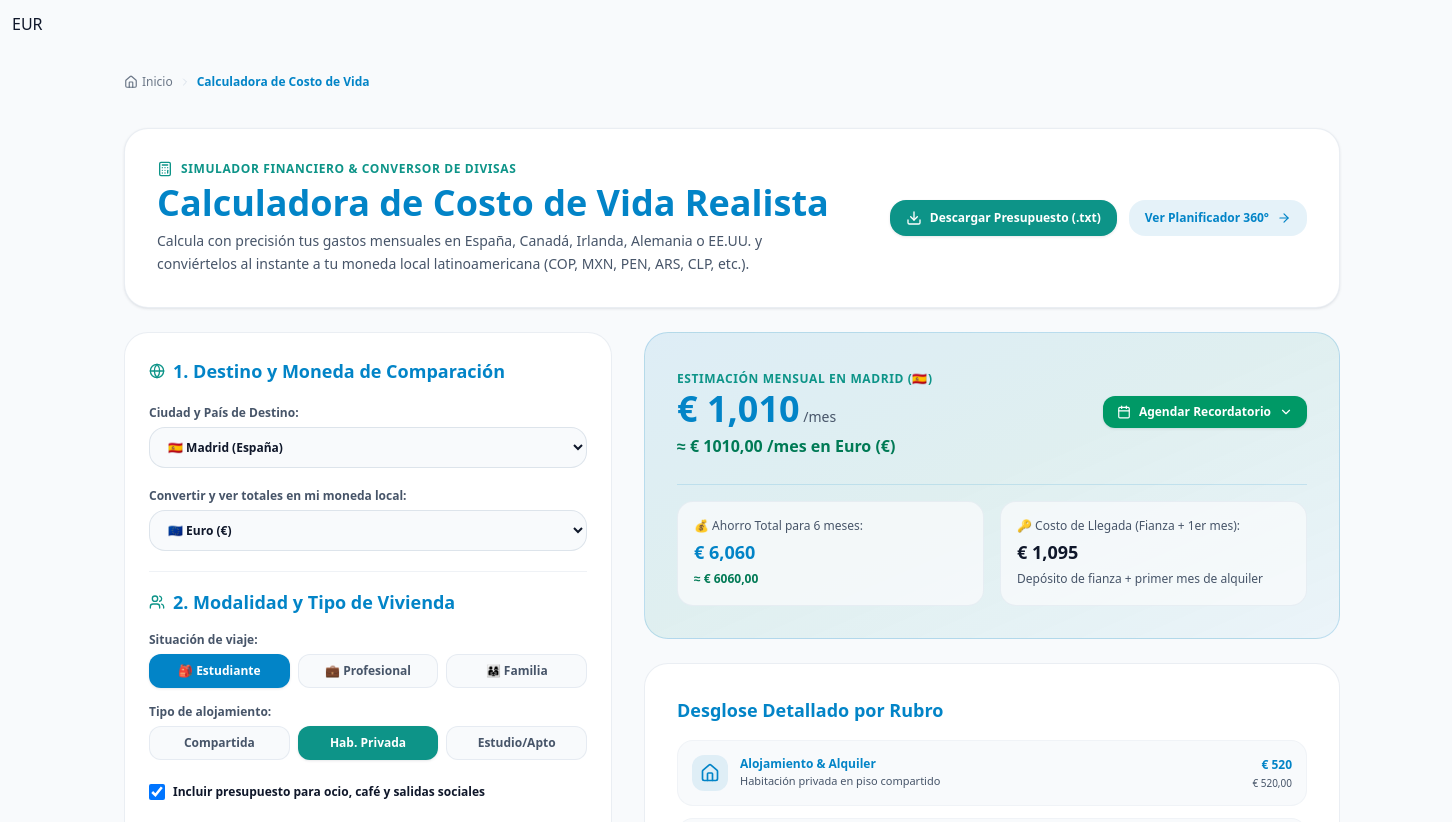
Test: CalculadoraCostoVida currency › writes back, so the rest of the application follows the calculator
Select "🇵🇪 Sol Peruano (PEN)" in the 2nd dropdown at (368, 531), box x1=149 y1=510 x2=587 y2=551
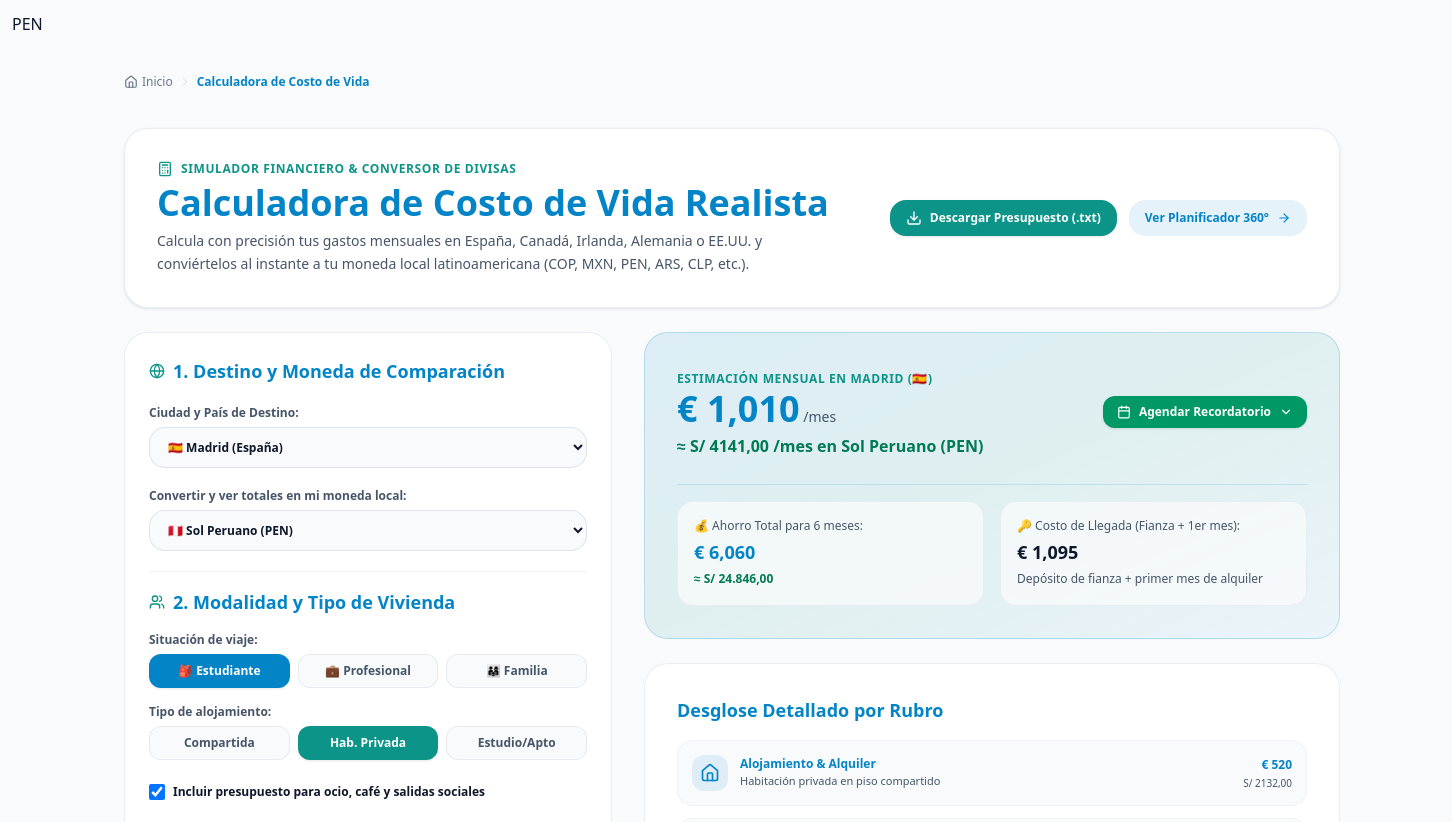
Expected: the text with test id "shared-currency" reads "PEN", x1=12 y1=13 x2=43 y2=35
